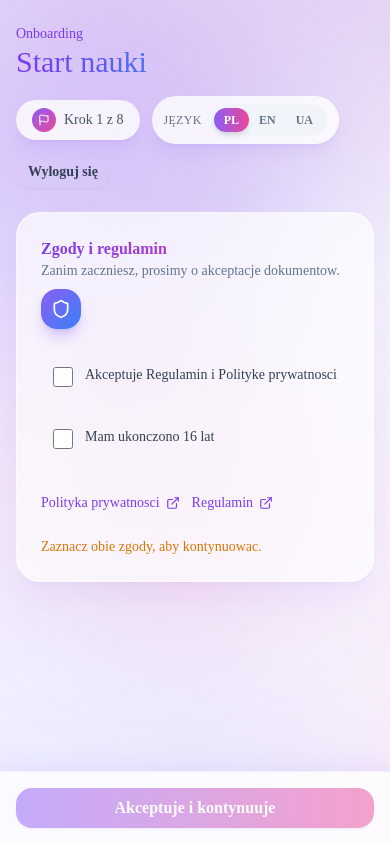
OnboardingPage › shows the path selection step after accepting consent
Note: Complete consent step
Click the checkbox labelled "Akceptuje Regulamin i Polityke prywatnosci" at (63, 377), box x1=53 y1=367 x2=73 y2=387
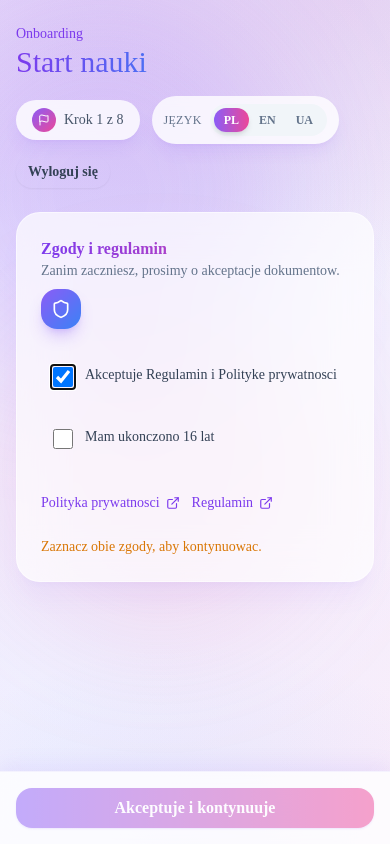
Click the checkbox labelled "Mam ukonczono 16 lat" at (63, 439), box x1=53 y1=429 x2=73 y2=449
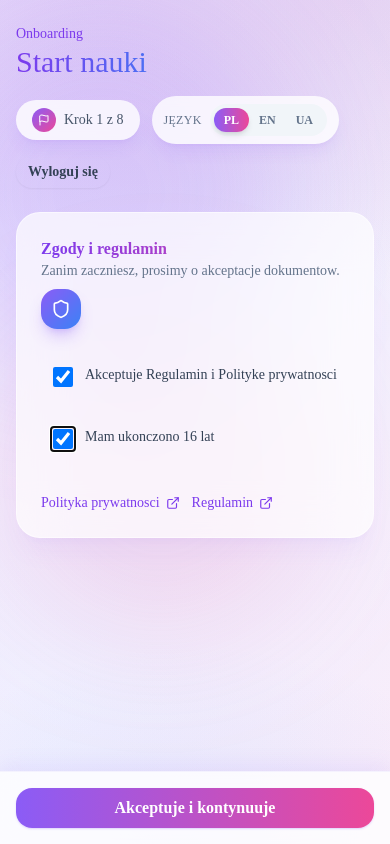
Note: Click first matching button (both mobile and desktop exist)
Click the button "Akceptuje i kontynuuje" at (195, 808), box x1=16 y1=788 x2=374 y2=828
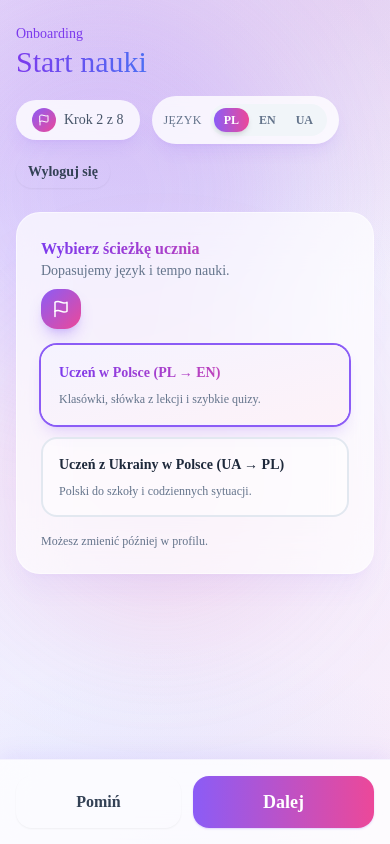
Check: the heading "Wybierz ścieżkę ucznia" is shown, box x1=41 y1=237 x2=349 y2=261
